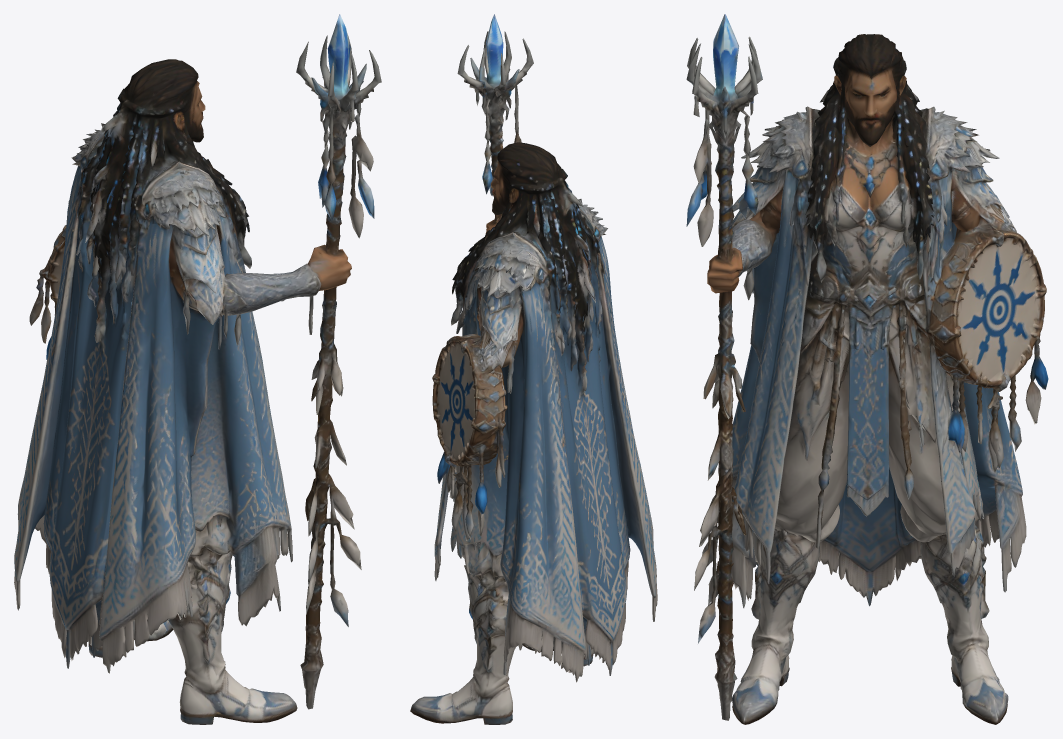
The model's file is drumcalleralt_T5-tripo.glb.
The picture shows the model from 3 angles, left to right: view 1: azimuth 30°, elevation 25°; view 2: azimuth 150°, elevation 25°; view 3: azimuth 270°, elevation 25°; orthographic projection. The views are drawn at different scales.
Visible parts, largest first — view 1: tripo_node_e93a10c8-06b7-415f-a951-aa97051c7c9e; view 2: tripo_node_e93a10c8-06b7-415f-a951-aa97051c7c9e; view 3: tripo_node_e93a10c8-06b7-415f-a951-aa97051c7c9e.
Part boxes in pixels (x1,y1,x2,y2): tripo_node_e93a10c8-06b7-415f-a951-aa97051c7c9e: (14,14,381,724); tripo_node_e93a10c8-06b7-415f-a951-aa97051c7c9e: (410,14,657,724); tripo_node_e93a10c8-06b7-415f-a951-aa97051c7c9e: (686,14,1048,724).
Bounding box in the file's own units: 0.3633 × 1 × 0.4498.
1 material, 1 textured.
